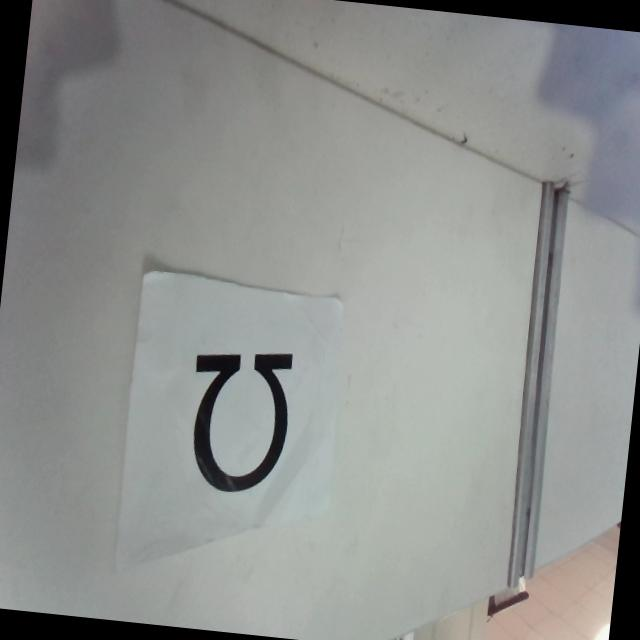OM: (180, 341, 299, 496)
